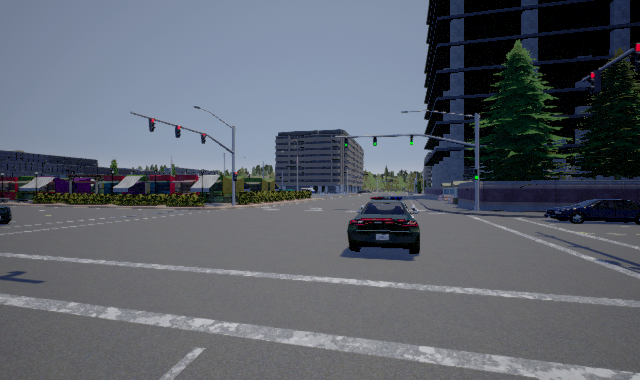traffic_light: (587, 70, 601, 95), (631, 42, 640, 72), (149, 118, 156, 132), (175, 125, 182, 138), (201, 133, 206, 144), (233, 172, 238, 181), (474, 169, 478, 180), (344, 137, 348, 147), (373, 136, 377, 146), (410, 134, 413, 145)
vehicle: (347, 197, 420, 254), (544, 199, 640, 225)
